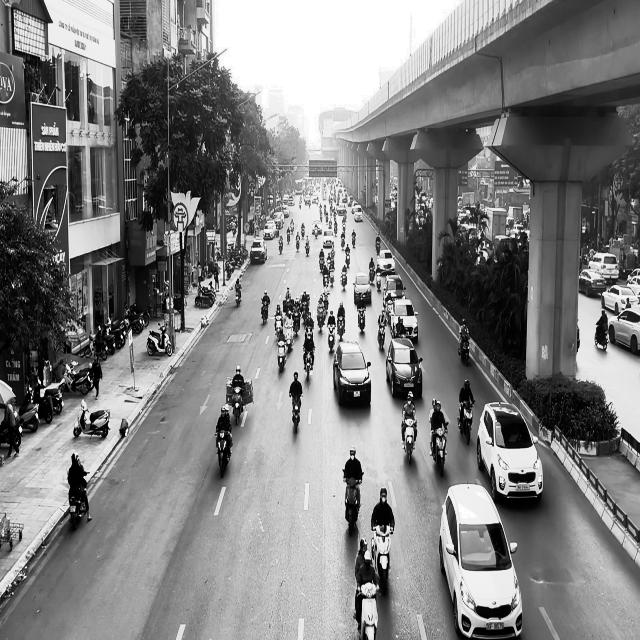car: (439, 482, 523, 639), (476, 401, 544, 503), (333, 340, 371, 407), (385, 337, 423, 398), (608, 307, 640, 355), (352, 272, 371, 303), (250, 239, 266, 264)
motorbike: (370, 523, 394, 596), (74, 399, 110, 438), (355, 582, 379, 639), (343, 470, 363, 536), (68, 473, 89, 529), (429, 423, 448, 477), (146, 322, 172, 357), (215, 426, 232, 478), (457, 401, 474, 445), (401, 418, 417, 464), (289, 392, 302, 433), (232, 386, 243, 426), (302, 346, 314, 381), (458, 333, 470, 366), (594, 323, 608, 351), (277, 339, 287, 372), (357, 306, 366, 334), (261, 300, 269, 324), (234, 287, 242, 306)
